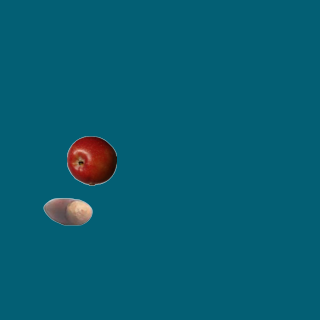Apple Braeburn: (66, 135, 116, 185)
Hazelnut: (42, 186, 92, 236)
